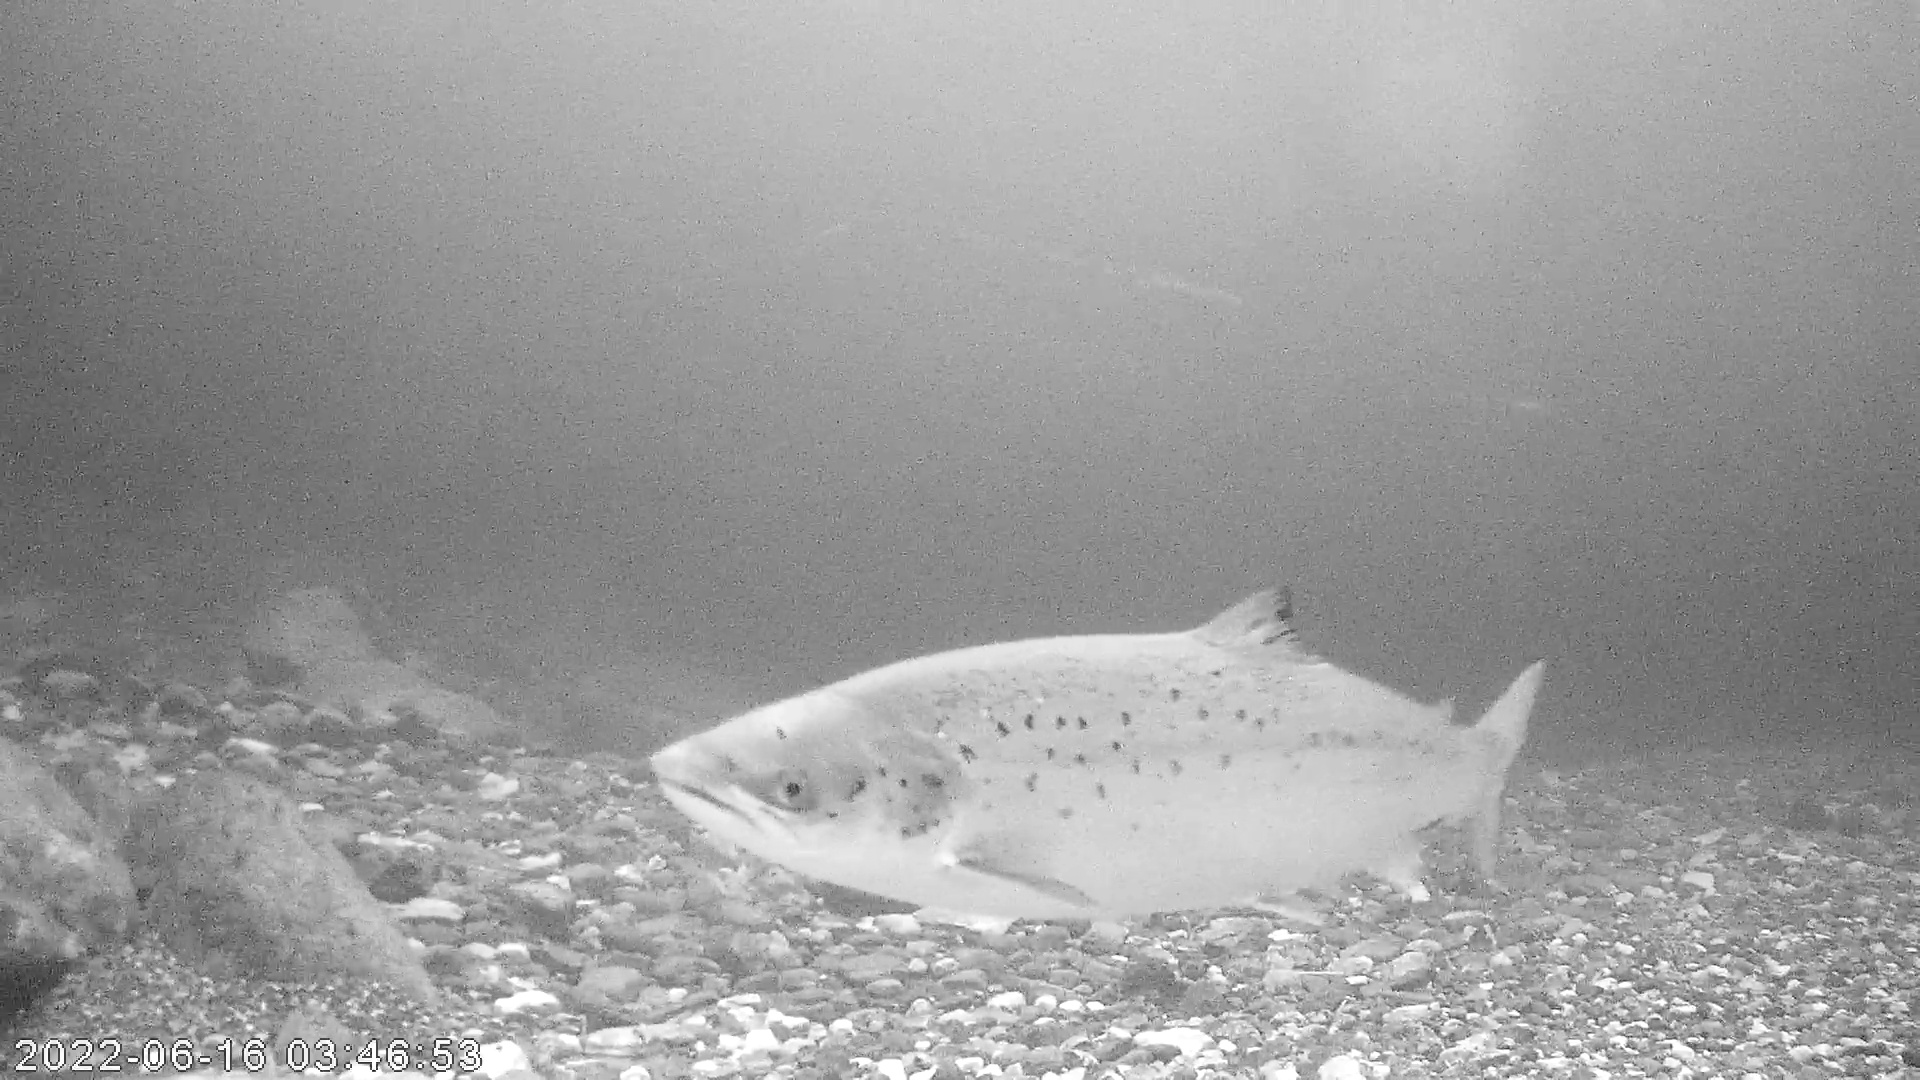salmon: (644, 582, 1553, 938)
